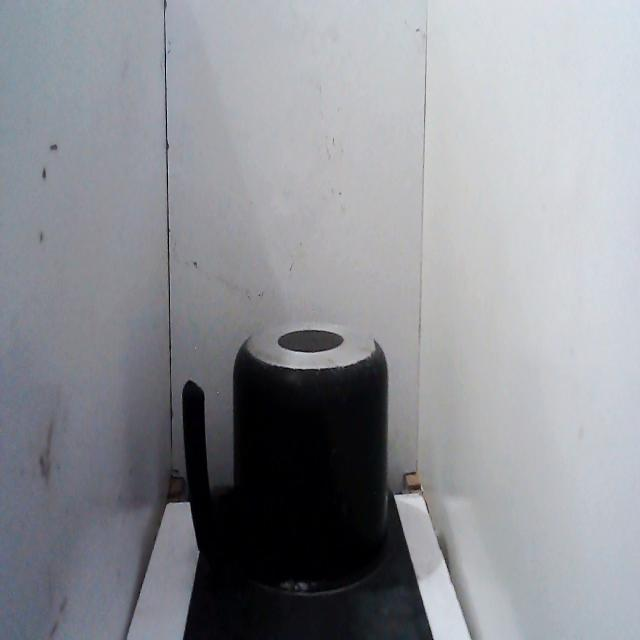metal: (176, 310, 401, 612)
